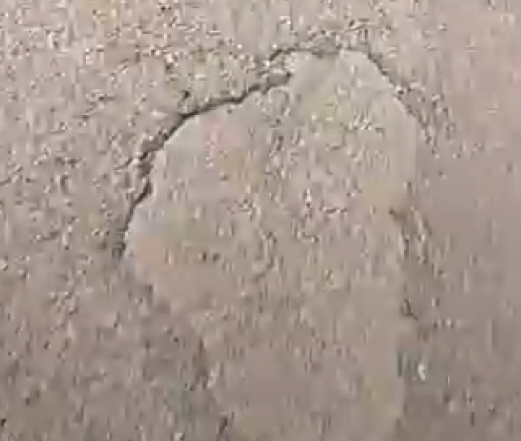Berlubang: (121, 31, 436, 441)
